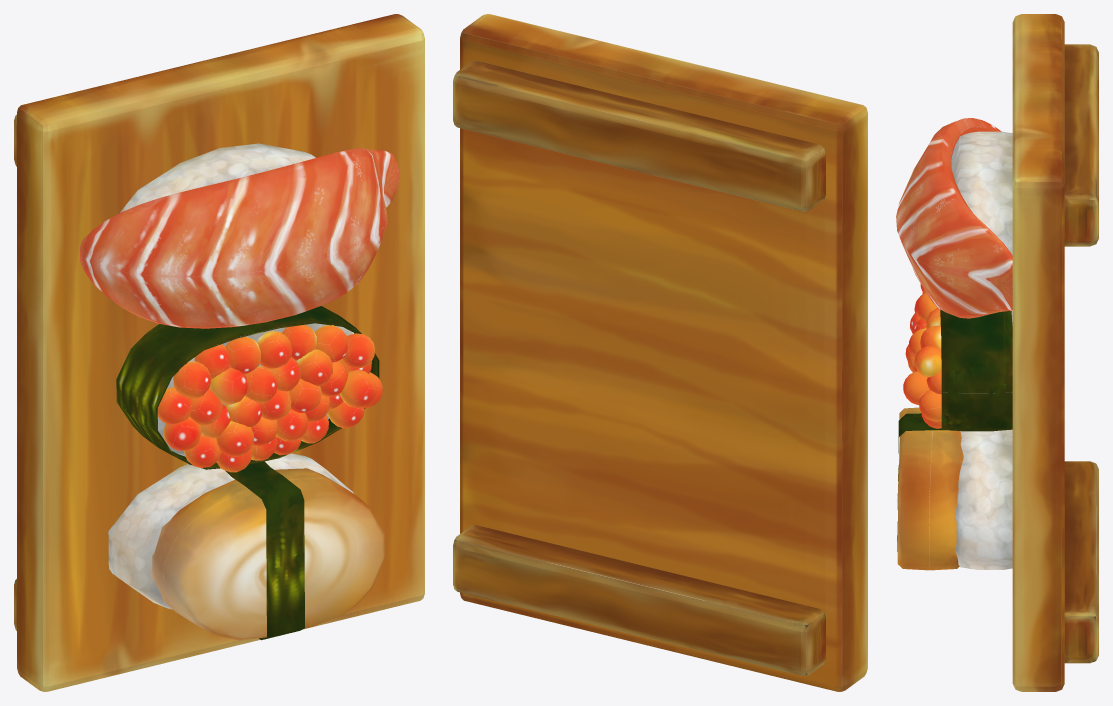
File: bar.gltf
3 renders of one model, left to right at view 1: azimuth 30°, elevation 25°; view 2: azimuth 150°, elevation 25°; view 3: azimuth 270°, elevation 25°, orthographic. The views are drawn at different scales.
Visible parts, largest first — view 1: Plane, Plane.011, Plane.004, Plane.001, Plane.002, Plane.003, Plane.005, Plane.040_0.002, Plane.040_0.009, Plane.043_0.016, Plane.017_0.002, Plane.040_0.006 (+18 smaller); view 2: Plane, Plane.007; view 3: Plane, Plane.007, Plane.011, Plane.004, Plane.001, Plane.002, Plane.005, Plane.040_0.012, Plane.003, Plane.043_0.016, Plane.043_0.014, Plane.040_0.011 (+1 smaller).
Boxes of the visible parts, bbox=[...] form: Plane: bbox=[17, 14, 424, 691]; Plane.011: bbox=[80, 148, 399, 328]; Plane.004: bbox=[152, 468, 385, 640]; Plane.001: bbox=[116, 306, 379, 469]; Plane.002: bbox=[108, 453, 353, 609]; Plane.003: bbox=[225, 461, 304, 640]; Plane.005: bbox=[120, 143, 315, 212]; Plane.040_0.002: bbox=[173, 361, 210, 398]; Plane.040_0.009: bbox=[256, 331, 292, 368]; Plane.043_0.016: bbox=[339, 369, 376, 407]; Plane.017_0.002: bbox=[209, 367, 247, 404]; Plane.040_0.006: bbox=[225, 336, 260, 373]; Plane: bbox=[460, 14, 867, 691]; Plane.007: bbox=[453, 60, 825, 675]; Plane: bbox=[1012, 14, 1064, 691]; Plane.007: bbox=[1064, 44, 1098, 663]; Plane.011: bbox=[896, 118, 1012, 318]; Plane.004: bbox=[897, 407, 963, 570]; Plane.001: bbox=[940, 309, 1012, 431]; Plane.002: bbox=[955, 429, 1012, 569]; Plane.005: bbox=[951, 131, 1012, 255]; Plane.040_0.012: bbox=[914, 345, 941, 377]; Plane.003: bbox=[897, 413, 952, 551]; Plane.043_0.016: bbox=[903, 371, 929, 405]; Plane.043_0.014: bbox=[919, 389, 941, 421]; Plane.040_0.011: bbox=[920, 325, 941, 349].
Bounding box in the file's own units: 5.99 × 8.51 × 3.04.
Materials: 1 (1 with a texture image).
